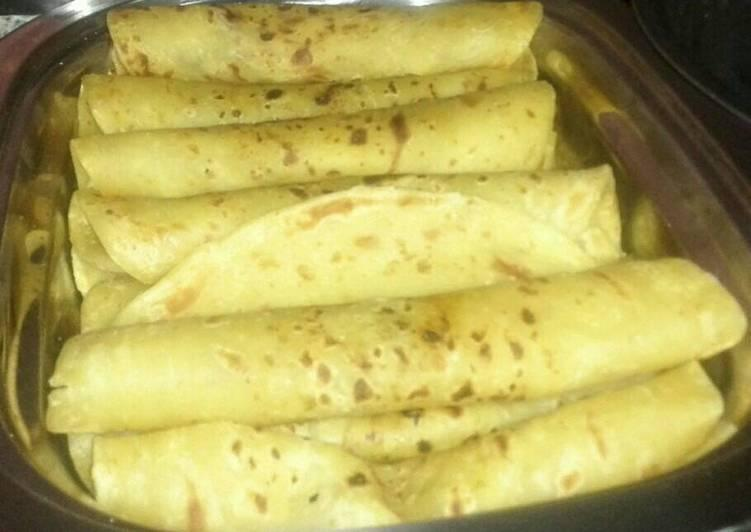roti: (42, 0, 751, 530)
